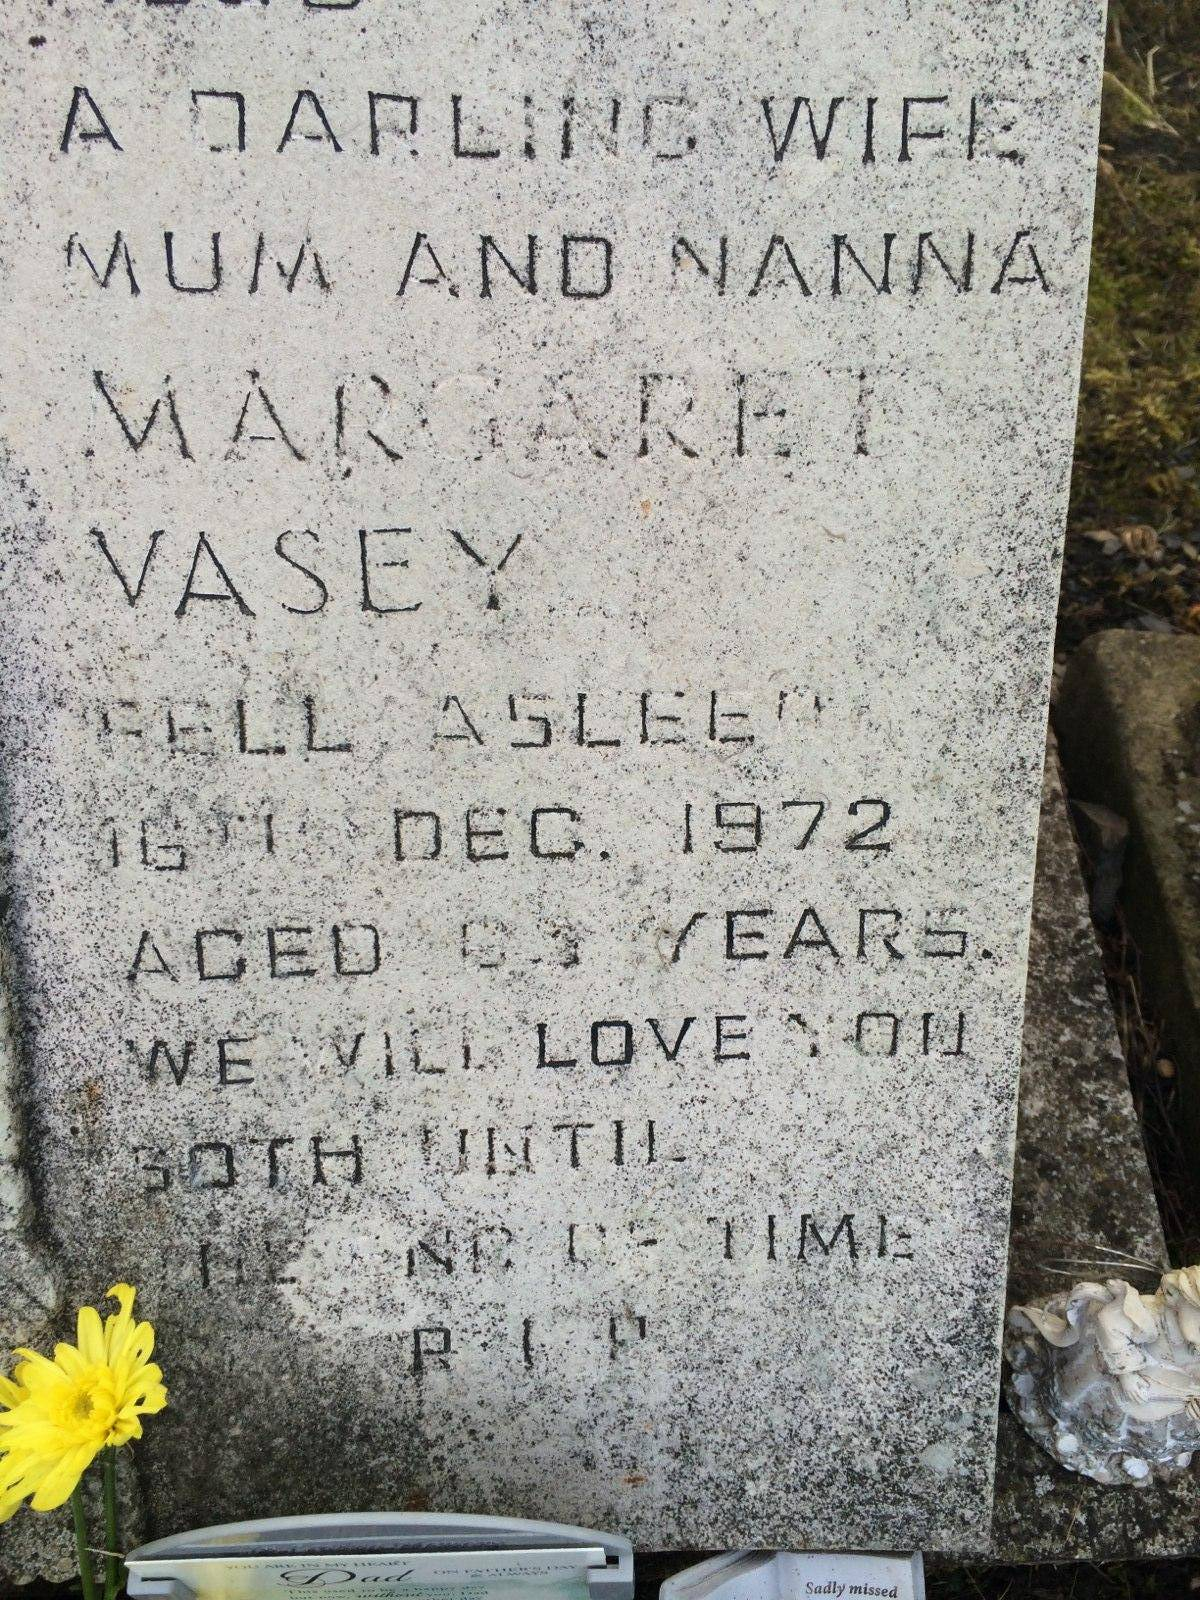upright: (0, 0, 1116, 1600)
